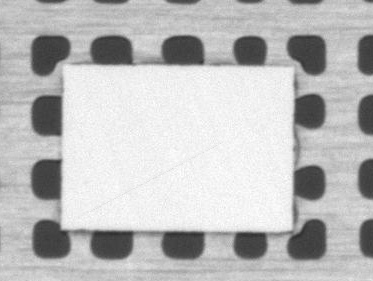DIE_CRACK: (101, 107, 295, 164)
